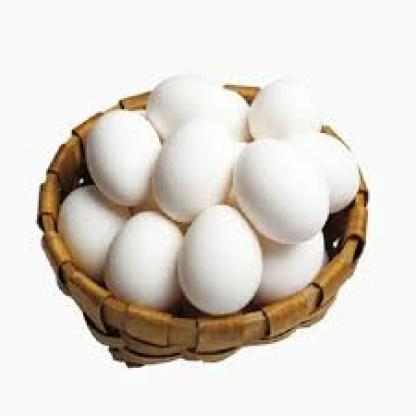egg: (232, 136, 330, 245), (176, 200, 264, 318), (153, 118, 243, 224), (57, 183, 138, 292), (105, 209, 188, 313), (147, 72, 253, 149), (86, 108, 164, 206), (255, 224, 326, 306), (248, 74, 326, 140), (319, 131, 363, 216)
